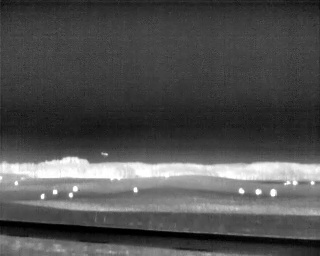AIRPLANE: (99, 149, 110, 159)
